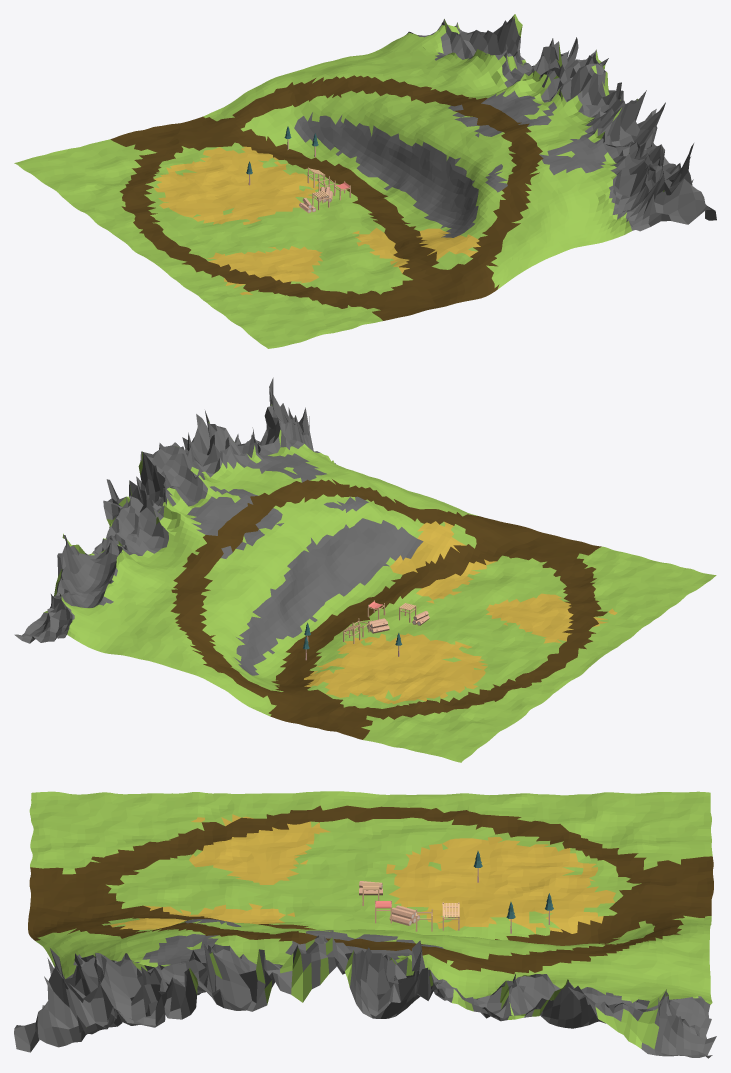
The model's file is hillvale.glb.
3 views of the same model, one above another, from view 1: azimuth 30°, elevation 25°; view 2: azimuth 150°, elevation 25°; view 3: azimuth 270°, elevation 25° (orthographic). The views are drawn at different scales.
Parts seen in each view (by area): view 1: Terrain; view 2: Terrain; view 3: Terrain, log_stackLarge.
Boxes of the visible parts, <box> form: Terrain: <box>14,14,716,348</box>; Terrain: <box>14,377,716,762</box>; Terrain: <box>14,791,716,1058</box>; log_stackLarge: <box>389,905,419,925</box>.
Bounding box in the file's own units: 209 × 50.37 × 207.
